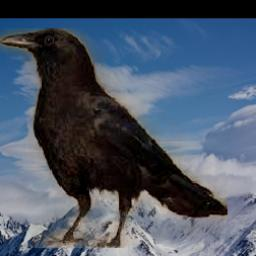Crow: (0, 29, 229, 249)
